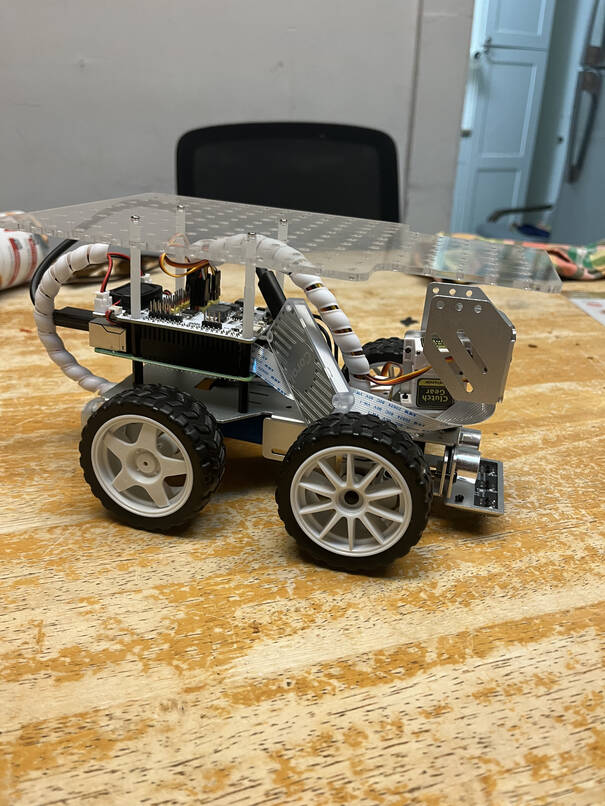vehicle: (12, 196, 557, 564)
